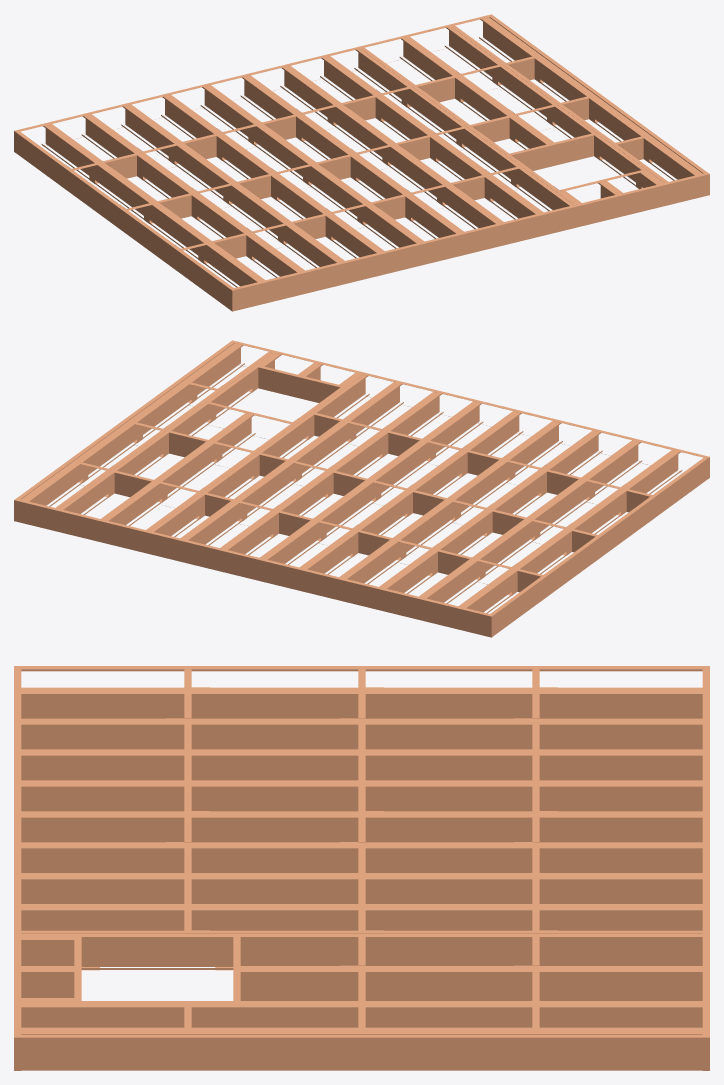
Rendered from laje-lj1-r1.glb.
The picture shows the model from 3 angles, top to bottom: view 1: azimuth 30°, elevation 25°; view 2: azimuth 150°, elevation 25°; view 3: azimuth 270°, elevation 25°; orthographic projection. The views are drawn at different scales.
Parts seen in each view (by area): view 1: LJ1-01; view 2: LJ1-01; view 3: LJ1-01.
Boxes of the visible parts, bbox=[...] form: LJ1-01: bbox=[14, 14, 709, 311]; LJ1-01: bbox=[14, 340, 709, 637]; LJ1-01: bbox=[14, 666, 709, 1070].
Size of the model in its own units: 4.81 by 0.2018 by 3.81.
